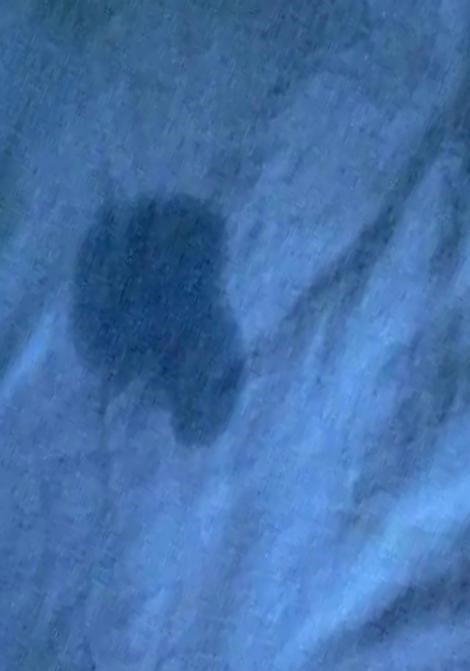stain: (63, 188, 257, 452)
